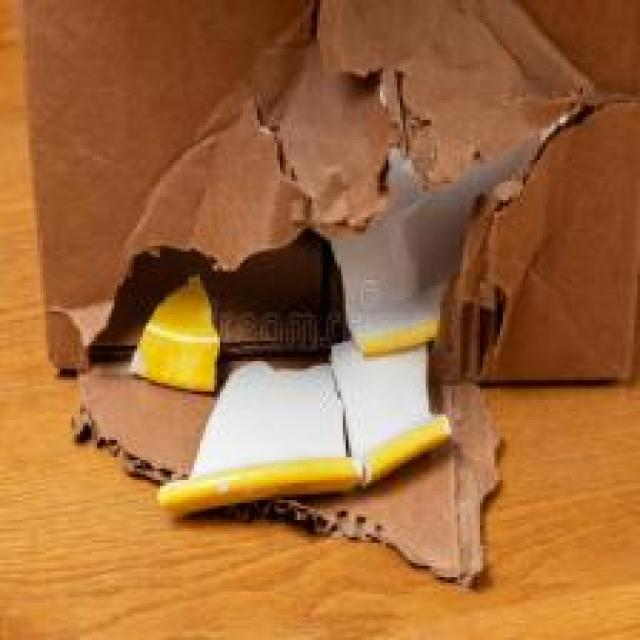box: (63, 30, 596, 417)
